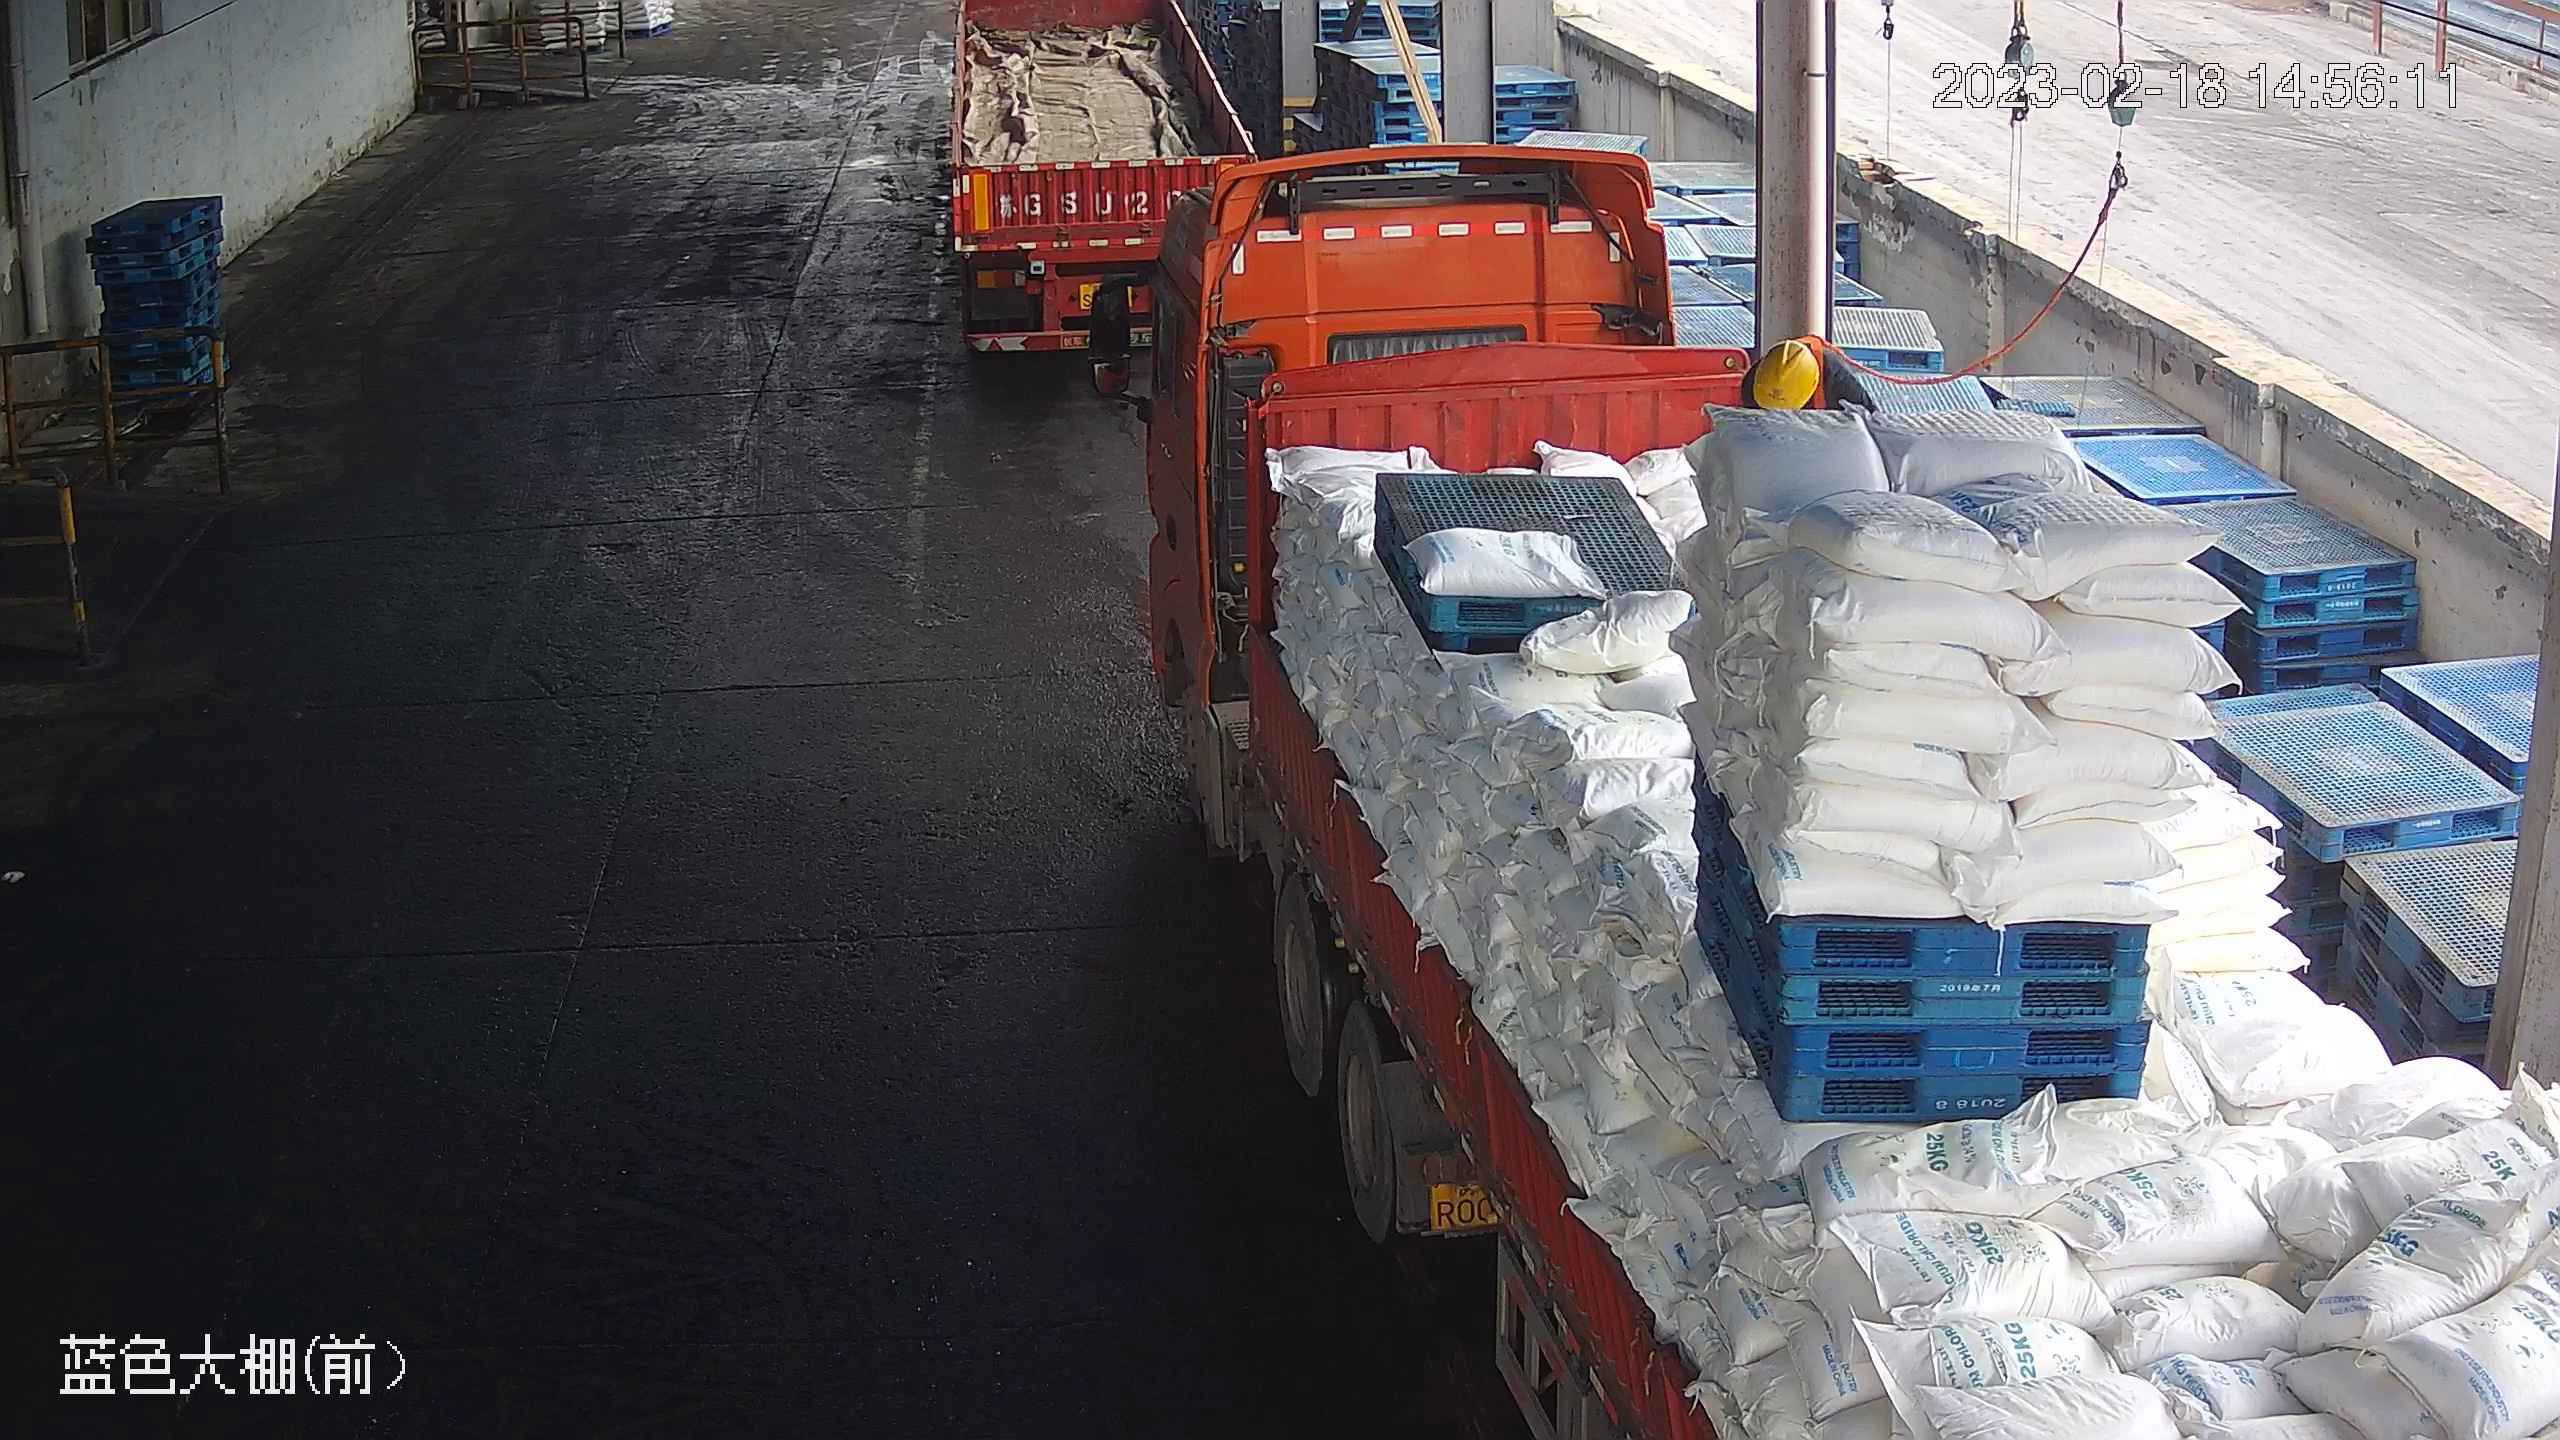helmet: (1748, 336, 1825, 410)
truck: (1088, 160, 2556, 1440), (941, 2, 1278, 366)
